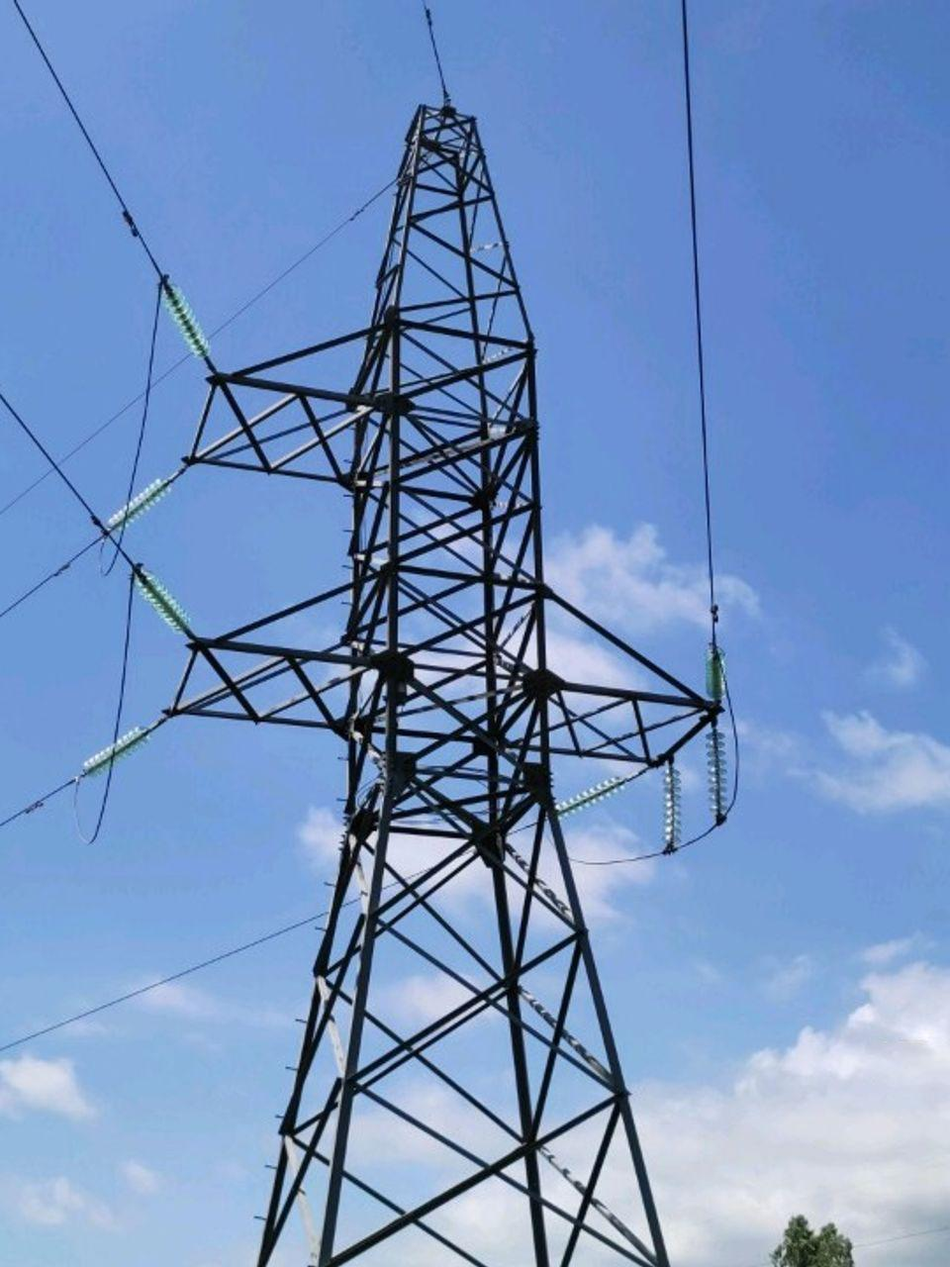tower: (136, 73, 775, 1267)
